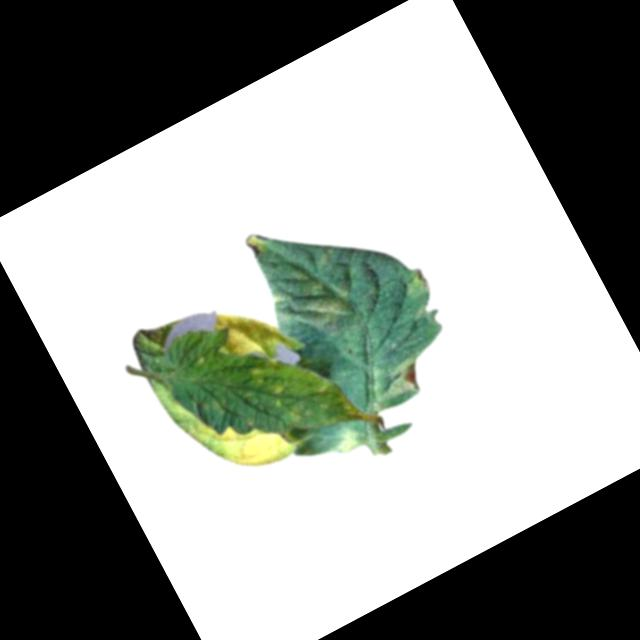Leaf_Mold: (259, 338, 360, 449), (192, 387, 298, 490), (209, 293, 286, 373), (299, 275, 358, 331), (374, 353, 429, 407), (395, 262, 434, 303), (330, 423, 365, 458)
